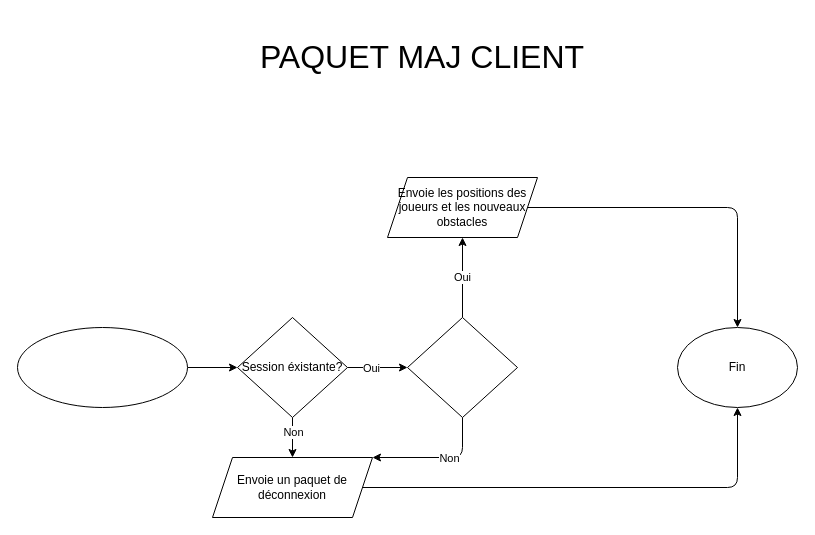
This 815x535 diagram has some shape labels left out. The centre of each missing label's shape, as x and y in pixels:
"Envoie requête MAJ" goes at (x=102, y=367).
"Joueur déjà connecté?" goes at (x=462, y=367).
